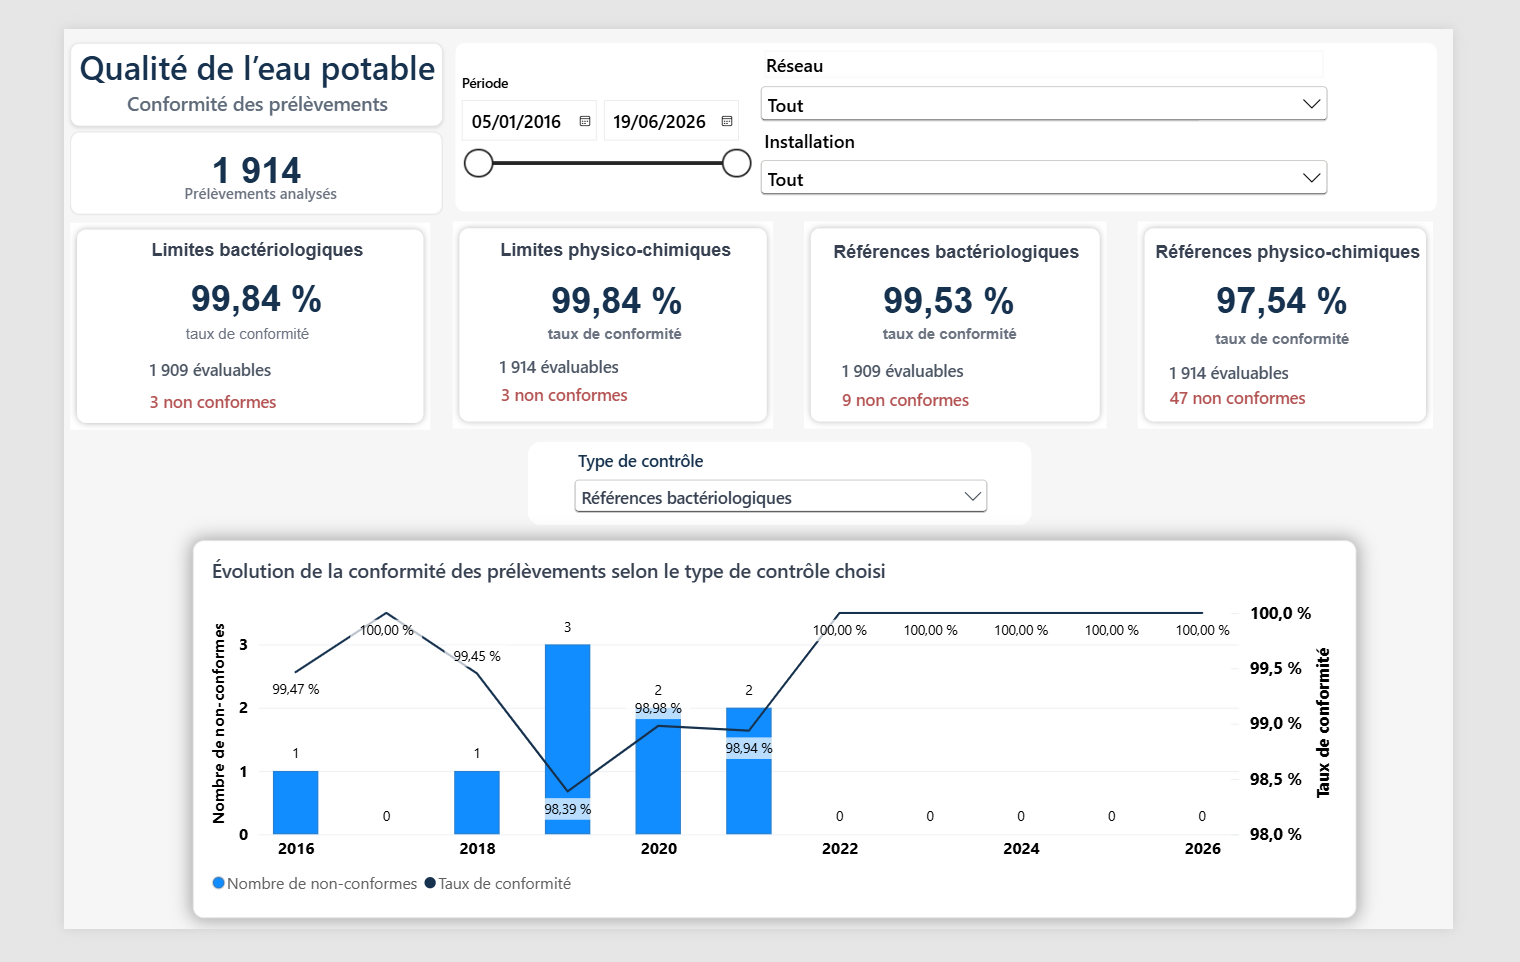

This screenshot's page, from the dashboard's own definition file:
{"tool":"powerbi","page":{"name":"Conformité des prélèvements","canvas":[1235,800],"ordinal":0},"visuals":[{"type":"shape","box":[412,366.7,448,74.7],"z":0},{"type":"shape","box":[347.6,11.9,872.6,150],"z":1000},{"type":"shape","box":[5.3,172,320,184],"z":2000},{"type":"slicer","fields":{"Values":["dim_date.date"]},"box":[345.9,40.5,268.9,121.6],"z":3000},{"type":"slicer","fields":{"Values":["dim_installation.nom_installation_amont"]},"box":[614.9,87.8,513.5,63.5],"z":4000},{"type":"slicer","fields":{"Values":["dim_reseau.code_reseau"]},"box":[614.9,18.9,513.5,68.9],"z":5000},{"type":"cardVisual","title":"Nombre total de prélèvements","fields":{"Data":["fact_prelevements.Affichage_nombre_total_prélèvements"]},"box":[5.4,87.8,331.1,74.3],"z":6000},{"type":"cardVisual","fields":{"Data":["fact_prelevements.Taux_conformité_Limites_bactériologiques"]},"box":[51.4,205.4,241.9,60.8],"z":7000},{"type":"cardVisual","fields":{"Data":["fact_prelevements.Affichage_évaluables_Limites_bactériologiques"]},"box":[59.5,281.1,208.1,43.2],"z":8000},{"type":"cardVisual","fields":{"Data":["fact_prelevements.Affichage_non_conformes_Limites_bactériologiques"]},"box":[59.5,314.9,208.1,33.8],"z":9000},{"type":"textbox","title":"Limites bactériologiques","box":[66.2,187.8,210.8,25.7],"z":10000},{"type":"textbox","title":"taux de conformité","box":[77,263.5,173,27],"z":11000},{"type":"shape","box":[345.9,171.6,285.1,183.8],"z":12000},{"type":"cardVisual","fields":{"Data":["fact_prelevements.Taux_conformité_Limites_physico_chimiques"]},"box":[374.3,206.8,235.1,56.8],"z":13000},{"type":"cardVisual","fields":{"Data":["fact_prelevements.Affichage_évaluables_Limites_physico_chimiques"]},"box":[371.6,281.1,235.1,37.8],"z":14000},{"type":"textbox","title":"Limites physico-chimiques","box":[359.5,187.8,260.8,28.4],"z":15000},{"type":"textbox","title":"taux de conformité","box":[404.1,263.5,170.3,18.9],"z":16000},{"type":"shape","box":[658.1,171.6,268.9,183.8],"z":17000},{"type":"cardVisual","fields":{"Data":["fact_prelevements.Taux_conformité_Références_bactériologiques"]},"box":[681.1,206.8,212.2,60.8],"z":18000},{"type":"cardVisual","fields":{"Data":["fact_prelevements.Affichage_évaluables_Références_bactériologiques"]},"box":[675.7,289.2,223,29.7],"z":19000},{"type":"cardVisual","fields":{"Data":["fact_prelevements.Affichage_non_conformes_Références_bactériologiques"]},"box":[675.7,314.9,193.2,29.7],"z":20000},{"type":"textbox","title":"Références bactériologiques","box":[668.9,189.2,248.6,24.3],"z":21000},{"type":"textbox","title":"taux de conformité","box":[690.5,263.5,194.6,18.9],"z":22000},{"type":"shape","box":[954.1,171.6,262.2,183.8],"z":23000},{"type":"cardVisual","fields":{"Data":["fact_prelevements.Taux_conformité_Références_physico_chimiques"]},"box":[966.2,206.8,233.8,66.2],"z":24000},{"type":"cardVisual","fields":{"Data":["fact_prelevements.Affichage_évaluables_Références_physico_chimiques"]},"box":[966.2,291.9,200,27],"z":25000},{"type":"cardVisual","fields":{"Data":["fact_prelevements.Affichage_non_conformes_Références_physico_chimiques"]},"box":[966.2,313.5,189.2,28.4],"z":26000},{"type":"textbox","title":"Références physico-chimiques","box":[954.1,189.2,266.7,28.4],"z":27000},{"type":"textbox","title":"taux de conformité","box":[994.6,267.6,177,18.9],"z":28000},{"type":"slicer","fields":{"Values":["Sélecteur_Type_Contrôle.Type_Contrôle"]},"box":[448.6,373.6,377,67.6],"z":29000},{"type":"lineClusteredColumnComboChart","title":"Évolution de la conformité des prélèvements  selon le type de contrôle choisi","fields":{"Category":["dim_date.annee","dim_date.nom_mois"],"Y":["Sélecteur_Type_Contrôle.Nb_non_conformes_Type_Contrôle_sélectionné"],"Y2":["Sélecteur_Type_Contrôle.Taux_conformité_Type_Contrôle_sélectionné"]},"box":[114.3,454.8,1034.7,336.1],"z":30000},{"type":"textbox","title":"Qualité de l’eau potable","box":[5.4,12.2,331.1,66.2],"z":31000},{"type":"textbox","title":"Prélèvements analysés","box":[77,136.5,195.9,28.4],"z":32000},{"type":"cardVisual","fields":{"Data":["fact_prelevements.Affichage_non_conformes_Limites_physico_chimiques"]},"box":[371.8,310.3,193.2,29.7],"z":33000}]}

Visuals, with their boxes in screenshot pixels (x1, y1, x2, y2), scaled from the page's 1235x800 canvas onto the 1520x962 screenshot:
shape: {"left": 507, "top": 441, "right": 1058, "bottom": 531}
shape: {"left": 428, "top": 14, "right": 1502, "bottom": 195}
shape: {"left": 7, "top": 207, "right": 400, "bottom": 428}
slicer - dim_date.date: {"left": 426, "top": 49, "right": 757, "bottom": 195}
slicer - dim_installation.nom_installation_amont: {"left": 757, "top": 106, "right": 1389, "bottom": 182}
slicer - dim_reseau.code_reseau: {"left": 757, "top": 23, "right": 1389, "bottom": 106}
"Nombre total de prélèvements" cardVisual: {"left": 7, "top": 106, "right": 414, "bottom": 195}
cardVisual - fact_prelevements.Taux_conformité_Limites_bactériologiques: {"left": 63, "top": 247, "right": 361, "bottom": 320}
cardVisual - fact_prelevements.Affichage_évaluables_Limites_bactériologiques: {"left": 73, "top": 338, "right": 329, "bottom": 390}
cardVisual - fact_prelevements.Affichage_non_conformes_Limites_bactériologiques: {"left": 73, "top": 379, "right": 329, "bottom": 419}
"Limites bactériologiques" textbox: {"left": 81, "top": 226, "right": 341, "bottom": 257}
"taux de conformité" textbox: {"left": 95, "top": 317, "right": 308, "bottom": 349}
shape: {"left": 426, "top": 206, "right": 777, "bottom": 427}
cardVisual - fact_prelevements.Taux_conformité_Limites_physico_chimiques: {"left": 461, "top": 249, "right": 750, "bottom": 317}
cardVisual - fact_prelevements.Affichage_évaluables_Limites_physico_chimiques: {"left": 457, "top": 338, "right": 747, "bottom": 383}
"Limites physico-chimiques" textbox: {"left": 442, "top": 226, "right": 763, "bottom": 260}
"taux de conformité" textbox: {"left": 497, "top": 317, "right": 707, "bottom": 340}
shape: {"left": 810, "top": 206, "right": 1141, "bottom": 427}
cardVisual - fact_prelevements.Taux_conformité_Références_bactériologiques: {"left": 838, "top": 249, "right": 1099, "bottom": 322}
cardVisual - fact_prelevements.Affichage_évaluables_Références_bactériologiques: {"left": 832, "top": 348, "right": 1106, "bottom": 383}
cardVisual - fact_prelevements.Affichage_non_conformes_Références_bactériologiques: {"left": 832, "top": 379, "right": 1069, "bottom": 414}
"Références bactériologiques" textbox: {"left": 823, "top": 228, "right": 1129, "bottom": 257}
"taux de conformité" textbox: {"left": 850, "top": 317, "right": 1089, "bottom": 340}
shape: {"left": 1174, "top": 206, "right": 1497, "bottom": 427}
cardVisual - fact_prelevements.Taux_conformité_Références_physico_chimiques: {"left": 1189, "top": 249, "right": 1477, "bottom": 328}
cardVisual - fact_prelevements.Affichage_évaluables_Références_physico_chimiques: {"left": 1189, "top": 351, "right": 1435, "bottom": 383}
cardVisual - fact_prelevements.Affichage_non_conformes_Références_physico_chimiques: {"left": 1189, "top": 377, "right": 1422, "bottom": 411}
"Références physico-chimiques" textbox: {"left": 1174, "top": 228, "right": 1503, "bottom": 262}
"taux de conformité" textbox: {"left": 1224, "top": 322, "right": 1442, "bottom": 345}
slicer - Sélecteur_Type_Contrôle.Type_Contrôle: {"left": 552, "top": 449, "right": 1016, "bottom": 531}
"Évolution de la conformité des prélèvements  selon le type de contrôle choisi" lineClusteredColumnComboChart: {"left": 141, "top": 547, "right": 1414, "bottom": 951}
"Qualité de l’eau potable" textbox: {"left": 7, "top": 15, "right": 414, "bottom": 94}
"Prélèvements analysés" textbox: {"left": 95, "top": 164, "right": 336, "bottom": 198}
cardVisual - fact_prelevements.Affichage_non_conformes_Limites_physico_chimiques: {"left": 458, "top": 373, "right": 695, "bottom": 409}
